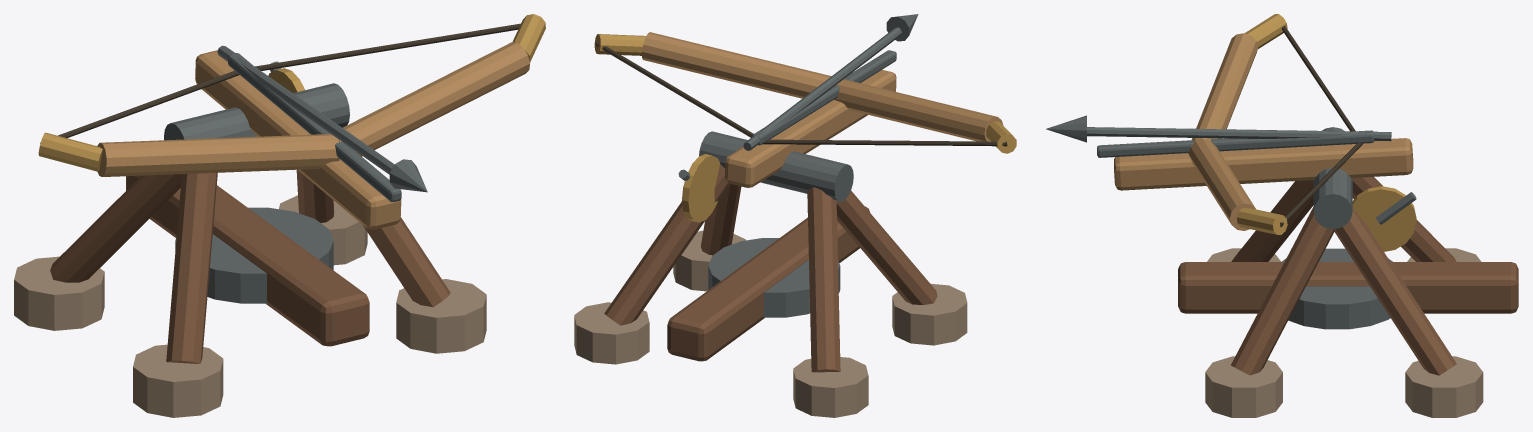
Rendered from silk-road-ballista.glb.
3 views of the same model, side by side, from view 1: azimuth 30°, elevation 25°; view 2: azimuth 150°, elevation 25°; view 3: azimuth 270°, elevation 25° (orthographic). The views are drawn at different scales.
Visible parts, largest first — view 1: carriage-spine, bow-arm--1, stock, front-brace--1, bow-arm-1, rear-brace--1, anchor-0, anchor-1, swivel, anchor-2, trunnion, front-brace-1 (+10 smaller); view 2: carriage-spine, rear-brace--1, bow-arm-1, stock, bow-arm--1, rear-brace-1, front-brace--1, anchor-2, trunnion, anchor-3, swivel, anchor-0 (+10 smaller); view 3: carriage-spine, stock, rear-brace-1, front-brace-1, swivel, anchor-3, anchor-1, bolt-rail, bow-arm--1, loaded-bolt, crank-wheel, bow-arm-1 (+9 smaller).
Part boxes in pixels (x1,y1,x2,y2): carriage-spine: (126, 175, 369, 346); bow-arm--1: (97, 134, 339, 176); stock: (195, 50, 401, 229); front-brace--1: (166, 172, 217, 363); bow-arm-1: (330, 42, 529, 156); rear-brace--1: (50, 174, 181, 282); anchor-0: (133, 344, 223, 417); anchor-1: (396, 279, 486, 353); swivel: (175, 207, 333, 303); anchor-2: (14, 256, 104, 330); trunnion: (164, 83, 349, 140); front-brace-1: (363, 217, 450, 307); carriage-spine: (667, 206, 870, 361); rear-brace--1: (807, 187, 840, 372); bow-arm-1: (642, 32, 843, 98); stock: (725, 69, 896, 187); bow-arm--1: (834, 79, 1003, 141); rear-brace-1: (604, 164, 730, 325); front-brace--1: (836, 190, 937, 304); anchor-2: (793, 357, 868, 417); trunnion: (699, 131, 853, 201); anchor-3: (574, 302, 649, 364); swivel: (708, 238, 840, 317); anchor-0: (892, 283, 967, 345); carriage-spine: (1178, 262, 1518, 313); stock: (1114, 138, 1413, 190); rear-brace-1: (1334, 209, 1456, 375); front-brace-1: (1231, 207, 1334, 375); swivel: (1281, 248, 1392, 329); anchor-3: (1405, 356, 1483, 417); anchor-1: (1205, 356, 1282, 417); bolt-rail: (1097, 130, 1374, 157); bow-arm--1: (1191, 33, 1258, 140); loaded-bolt: (1087, 127, 1391, 141); crank-wheel: (1352, 186, 1416, 251); bow-arm-1: (1188, 138, 1255, 230).
Bounding box in the file's own units: 3.55 × 1.85 × 3.41.
